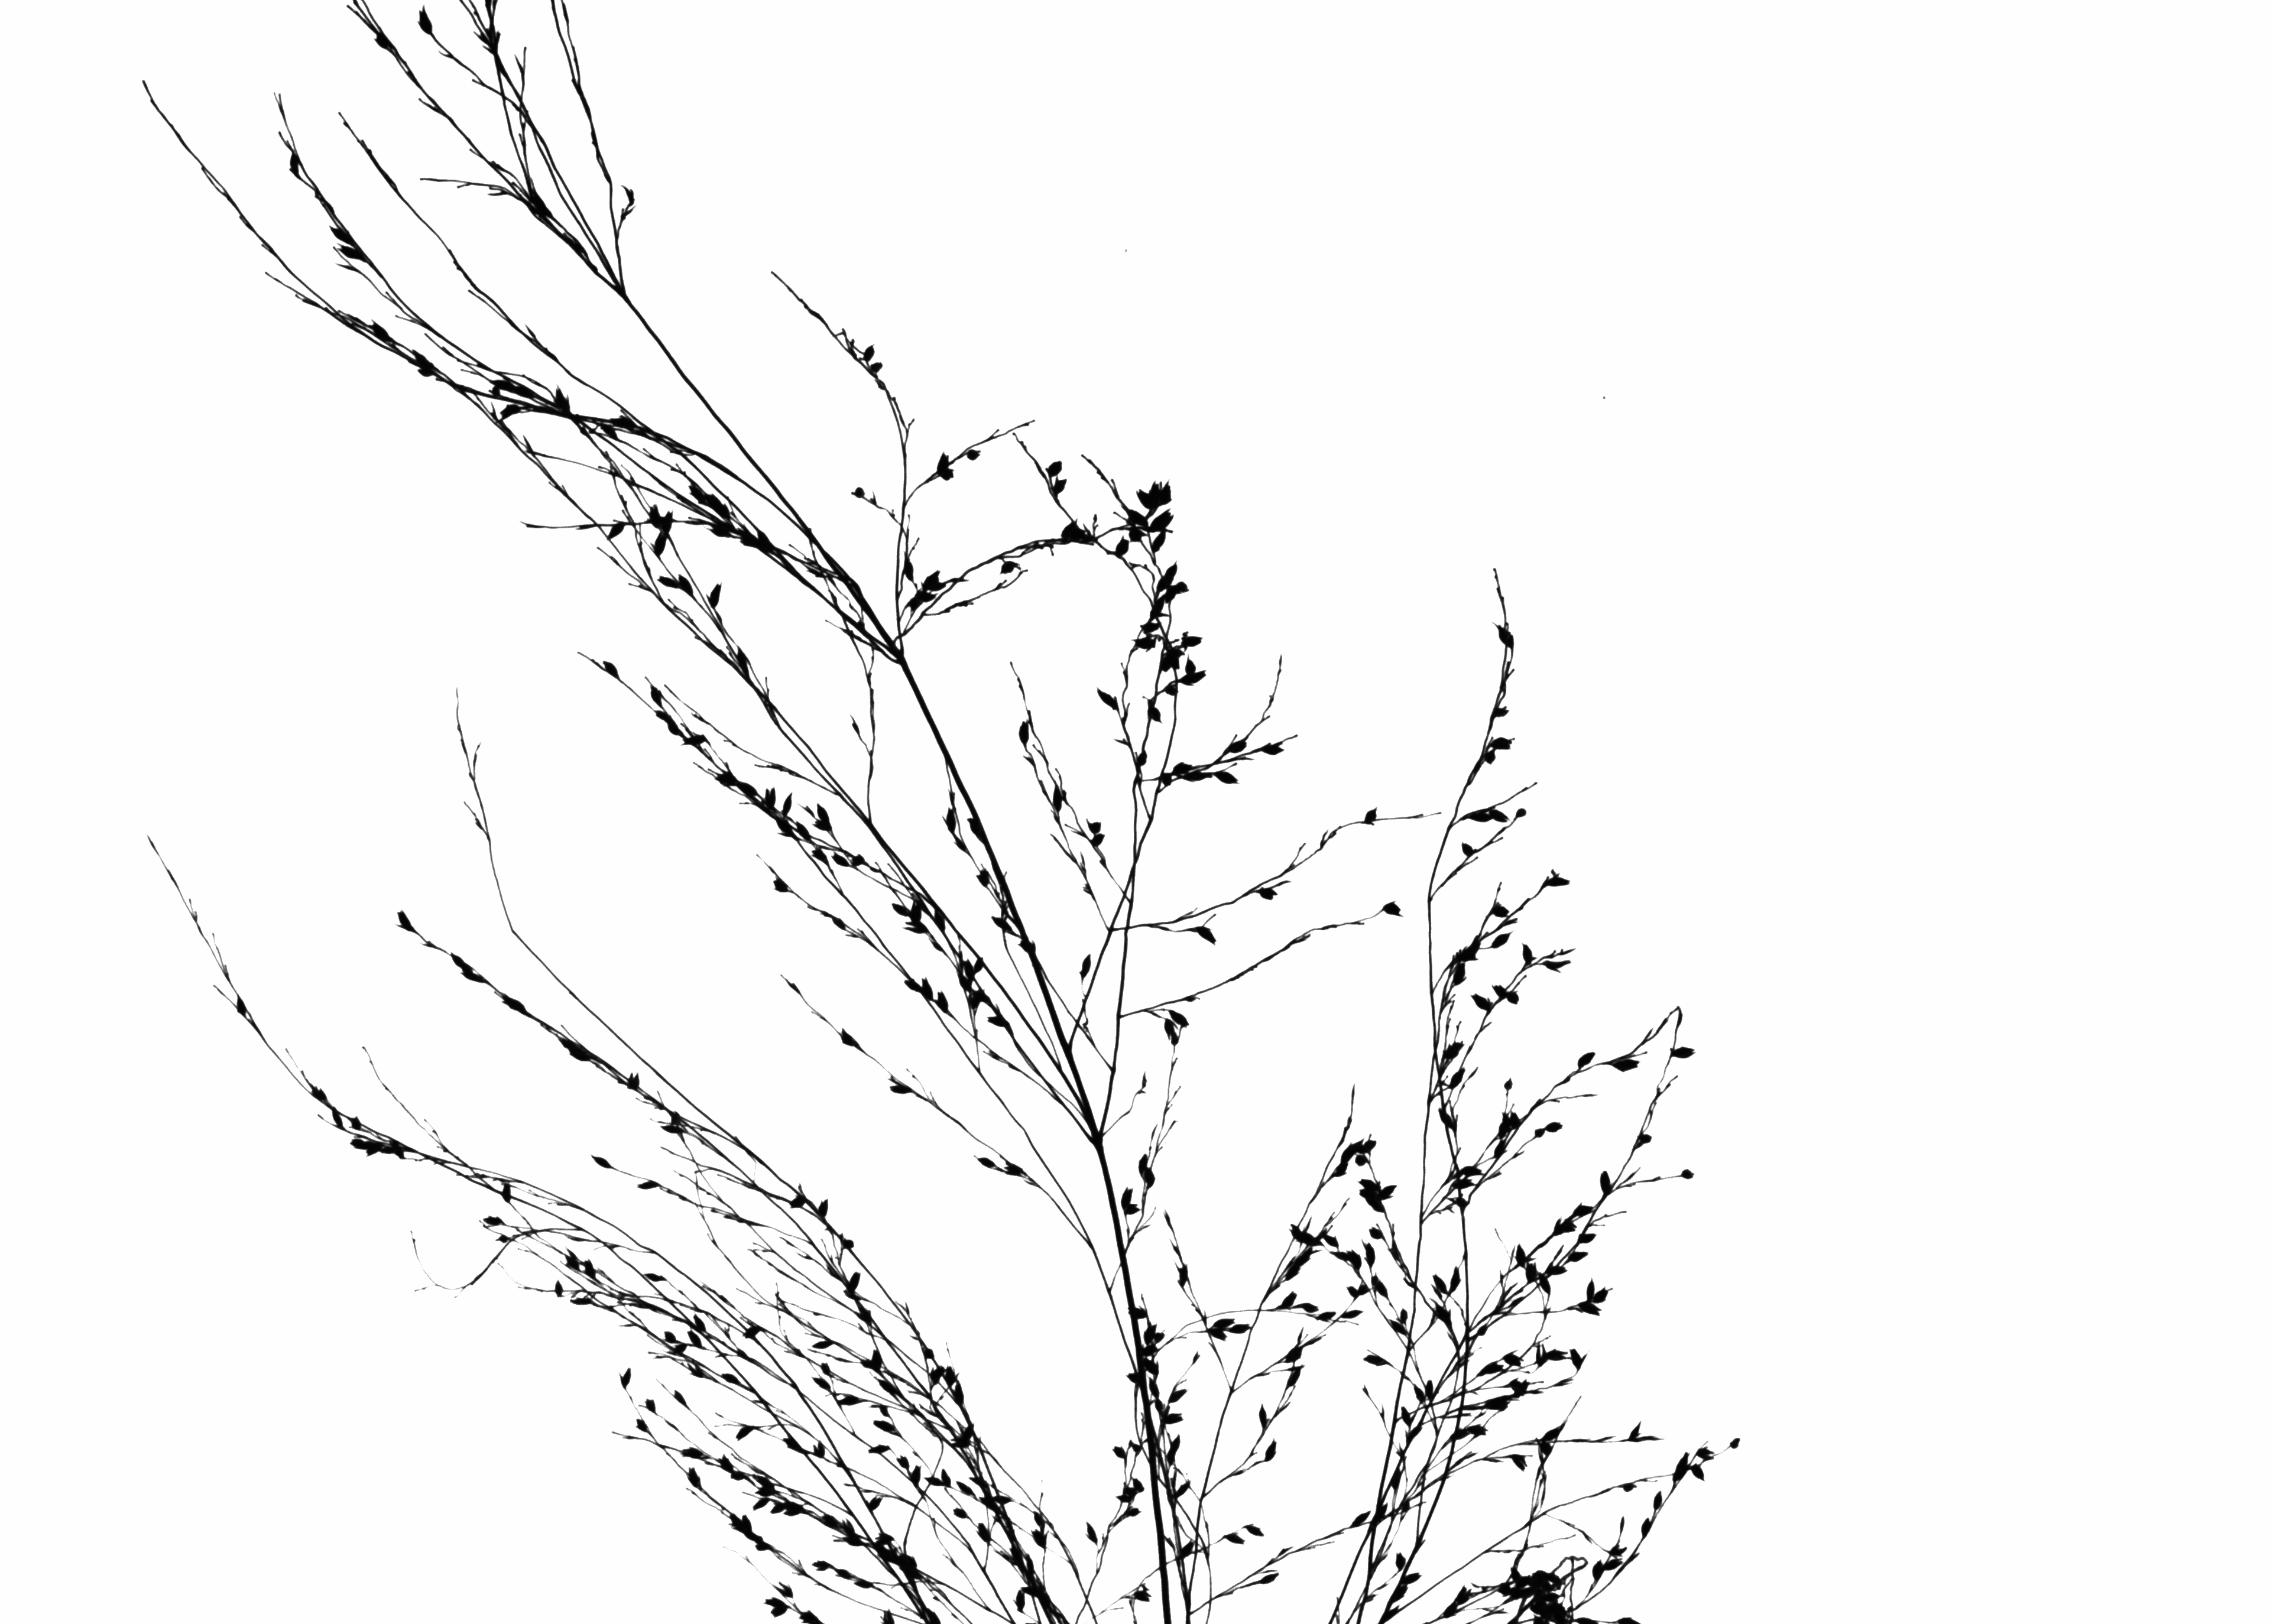seed: (325, 220, 364, 244), (334, 244, 369, 267), (596, 417, 624, 445), (1670, 1448, 1692, 1483), (411, 346, 438, 374), (367, 316, 394, 344), (501, 991, 529, 1016), (986, 912, 1015, 937), (1152, 504, 1175, 534), (1095, 684, 1118, 714), (1495, 622, 1519, 649), (1340, 1135, 1364, 1162), (735, 777, 761, 801), (369, 32, 396, 56), (413, 7, 436, 35), (709, 490, 730, 520), (1013, 715, 1032, 747), (707, 578, 726, 610), (550, 381, 570, 413), (1542, 1420, 1568, 1443), (705, 520, 731, 543), (1059, 517, 1080, 545), (1178, 627, 1206, 649), (1612, 1055, 1642, 1074), (1125, 506, 1150, 529), (1382, 896, 1405, 921), (1192, 924, 1217, 947), (965, 816, 988, 840), (795, 819, 818, 844), (710, 765, 733, 789), (1542, 956, 1574, 974), (1356, 1172, 1382, 1193), (1213, 766, 1240, 787), (1168, 1005, 1194, 1026), (1168, 1431, 1185, 1462), (876, 1376, 902, 1397), (394, 905, 415, 932), (918, 974, 935, 1005), (677, 733, 712, 749), (647, 680, 668, 707), (753, 524, 770, 555), (287, 148, 302, 183), (1626, 1418, 1646, 1446), (1433, 1301, 1452, 1329), (872, 1418, 902, 1436), (733, 640, 751, 670), (1257, 882, 1280, 905), (1444, 1037, 1465, 1062), (1470, 988, 1491, 1012), (1577, 1297, 1602, 1318), (774, 816, 795, 840), (1050, 475, 1071, 499), (1289, 1220, 1308, 1246), (1488, 930, 1514, 949), (1449, 1063, 1468, 1090), (1670, 1042, 1697, 1062), (962, 958, 981, 984), (651, 707, 677, 726), (644, 499, 663, 526), (1540, 874, 1572, 889), (1050, 782, 1066, 814), (1595, 1167, 1612, 1195), (1162, 1016, 1180, 1044), (921, 568, 944, 589), (1285, 1367, 1305, 1392), (1081, 1519, 1101, 1543), (814, 801, 833, 826), (865, 359, 884, 383), (944, 805, 960, 835), (1408, 1380, 1426, 1406), (1152, 527, 1169, 554), (1115, 534, 1132, 561), (1363, 1350, 1389, 1367), (680, 1445, 707, 1462), (608, 517, 626, 543), (1539, 1269, 1554, 1297), (900, 555, 916, 584), (1164, 555, 1180, 584), (1078, 951, 1094, 979), (1173, 1478, 1194, 1499), (1264, 1436, 1280, 1464), (865, 1441, 893, 1457), (923, 1603, 944, 1624), (591, 1151, 612, 1172), (659, 508, 675, 536), (656, 533, 672, 561), (1389, 1584, 1408, 1606), (1389, 1318, 1412, 1338), (1155, 573, 1175, 596), (686, 1327, 705, 1350), (839, 1026, 858, 1049), (858, 343, 877, 366), (1299, 1232, 1324, 1250), (1437, 1107, 1454, 1132), (1570, 1200, 1595, 1218), (1347, 1248, 1364, 1272), (995, 559, 1020, 576), (1157, 482, 1175, 506), (1183, 670, 1208, 687), (1245, 1520, 1270, 1538), (1030, 1527, 1048, 1552), (719, 1369, 744, 1387), (462, 970, 487, 988), (496, 401, 520, 418), (1482, 1397, 1512, 1411), (1257, 742, 1287, 756), (1136, 1067, 1152, 1093), (1468, 808, 1495, 824), (1451, 961, 1466, 988), (1456, 1162, 1482, 1178), (1521, 1260, 1537, 1287), (1540, 1346, 1567, 1362), (1326, 1246, 1352, 1262), (1129, 636, 1155, 652), (1146, 1374, 1162, 1401), (686, 1464, 702, 1490), (816, 1195, 832, 1222), (888, 1081, 914, 1097), (932, 903, 948, 930), (680, 573, 696, 599), (1491, 807, 1512, 826), (1491, 900, 1510, 921), (1577, 1048, 1597, 1069), (1503, 1350, 1524, 1369), (1352, 1508, 1371, 1529), (1282, 1343, 1303, 1362), (1136, 487, 1155, 508), (1146, 703, 1166, 724), (735, 1422, 756, 1441), (390, 1139, 410, 1160), (856, 1304, 876, 1325), (955, 972, 974, 993), (832, 851, 853, 870), (1363, 805, 1380, 828), (811, 1374, 833, 1392), (693, 1311, 710, 1334), (1046, 455, 1064, 478), (658, 575, 680, 592), (1602, 1555, 1626, 1571), (1692, 1462, 1707, 1487), (1489, 735, 1514, 750), (1373, 1274, 1389, 1299), (1340, 1308, 1364, 1323), (944, 1360, 957, 1392), (584, 1257, 600, 1281), (661, 1121, 686, 1137), (986, 1014, 1011, 1030), (935, 988, 951, 1012), (1546, 1118, 1565, 1137), (1227, 736, 1247, 756), (1131, 1475, 1150, 1494), (672, 1387, 691, 1406), (450, 951, 469, 970), (1651, 1485, 1665, 1512), (1495, 1114, 1512, 1135), (1451, 1265, 1465, 1292), (1363, 1241, 1377, 1267), (1222, 1533, 1248, 1547), (953, 1478, 974, 1496), (1030, 1508, 1048, 1529), (833, 1562, 855, 1580), (740, 1513, 754, 1540), (788, 1193, 809, 1211), (601, 657, 619, 678), (1612, 1612, 1642, 1624), (1567, 1248, 1590, 1264), (1468, 1422, 1491, 1438), (1398, 1404, 1414, 1427), (909, 589, 925, 612), (1118, 1186, 1134, 1209), (1143, 1322, 1159, 1345), (1213, 1315, 1236, 1330), (811, 1557, 833, 1573), (751, 1471, 774, 1487), (781, 1436, 804, 1452), (742, 1323, 765, 1339), (848, 1267, 863, 1290), (974, 1155, 997, 1171), (1451, 1176, 1475, 1190), (1313, 1309, 1338, 1323), (870, 1345, 884, 1369), (930, 1362, 944, 1387), (992, 1492, 1016, 1506), (978, 1519, 992, 1543), (842, 1536, 867, 1550), (765, 1594, 789, 1608), (784, 1504, 809, 1519), (331, 1106, 345, 1130), (1444, 1599, 1461, 1619), (1593, 1287, 1612, 1304), (1169, 1385, 1189, 1403), (772, 875, 789, 895), (811, 847, 828, 866), (1637, 1517, 1653, 1538), (1537, 1439, 1553, 1461), (1447, 1424, 1468, 1439), (1433, 1272, 1449, 1294), (1379, 1183, 1400, 1199), (1287, 1262, 1303, 1283), (1282, 1288, 1298, 1309), (1152, 1397, 1168, 1418), (1178, 1540, 1194, 1561), (860, 1355, 881, 1371), (833, 1396, 865, 1406), (672, 1107, 688, 1128), (937, 445, 948, 476), (1521, 940, 1533, 967), (1514, 1241, 1526, 1267), (809, 1338, 835, 1350), (953, 1380, 965, 1406), (1015, 1585, 1027, 1612), (637, 1179, 663, 1192), (809, 821, 835, 833), (1568, 1346, 1582, 1369), (1479, 1362, 1502, 1376), (1401, 1570, 1424, 1584), (1136, 747, 1150, 770), (1127, 1304, 1150, 1318), (1164, 1411, 1187, 1425), (855, 1577, 877, 1591), (234, 993, 248, 1016), (1138, 1151, 1148, 1181), (1510, 1454, 1528, 1471), (1359, 1137, 1377, 1155), (1333, 1160, 1350, 1178), (1368, 1197, 1386, 1214), (1085, 816, 1102, 833), (672, 1339, 689, 1357), (902, 975, 920, 993), (1509, 1566, 1524, 1585), (1493, 1139, 1509, 1158), (1500, 1074, 1516, 1093), (1368, 1225, 1387, 1241), (1164, 678, 1180, 698), (1092, 830, 1108, 849), (1143, 1357, 1159, 1376), (1132, 1589, 1152, 1605), (719, 1452, 735, 1471), (635, 1415, 651, 1434), (350, 1113, 366, 1132), (891, 902, 911, 917), (830, 910, 846, 930), (964, 443, 979, 462), (1551, 1214, 1563, 1239), (1544, 1265, 1568, 1278), (1183, 654, 1196, 678), (1169, 759, 1194, 772), (909, 898, 921, 923), (782, 791, 795, 816), (1456, 1582, 1470, 1603), (1259, 1571, 1280, 1585), (1208, 1329, 1229, 1343), (1231, 1322, 1252, 1336), (768, 1501, 789, 1515), (484, 1213, 505, 1227), (375, 1142, 396, 1156), (350, 1137, 371, 1151), (1004, 1160, 1025, 1174), (1618, 1515, 1630, 1538), (1394, 1548, 1407, 1571), (1145, 1167, 1157, 1190), (1115, 1492, 1138, 1504), (621, 1366, 633, 1388), (644, 1271, 666, 1283), (570, 1295, 593, 1308), (972, 988, 985, 1011), (1547, 1570, 1565, 1585), (1635, 1130, 1653, 1146), (1173, 580, 1190, 596), (1150, 1329, 1168, 1345), (1178, 1262, 1189, 1288), (1259, 1403, 1270, 1429), (819, 1359, 835, 1376), (911, 1462, 921, 1489), (951, 1504, 969, 1520), (777, 1578, 793, 1596), (851, 485, 867, 503), (1493, 707, 1512, 721), (1398, 1499, 1412, 1519), (1139, 1343, 1159, 1357), (962, 1422, 976, 1441), (753, 1496, 772, 1510), (1572, 1613, 1597, 1624), (1605, 1543, 1626, 1555), (1591, 1557, 1602, 1582), (1495, 981, 1507, 1002), (1577, 1230, 1598, 1243), (1426, 1376, 1437, 1401), (1139, 622, 1164, 633), (923, 1473, 944, 1485), (877, 1529, 899, 1541), (840, 1237, 856, 1253), (1516, 807, 1530, 824), (1505, 988, 1519, 1005), (1324, 1234, 1342, 1248), (1111, 1443, 1125, 1461), (877, 1403, 891, 1420), (770, 1605, 788, 1619), (823, 1512, 840, 1526), (564, 1253, 578, 1271), (974, 954, 988, 972), (1510, 1109, 1521, 1132), (1391, 1468, 1401, 1490), (918, 592, 941, 603), (503, 1181, 513, 1204), (1124, 1506, 1143, 1519), (941, 1468, 953, 1487), (844, 1515, 856, 1534), (900, 926, 927, 935), (1681, 1165, 1695, 1181), (1159, 772, 1173, 787), (1125, 1204, 1141, 1218), (1125, 1371, 1141, 1385), (951, 1439, 972, 1450), (897, 1454, 911, 1469), (816, 1436, 826, 1457), (663, 1327, 679, 1341), (974, 874, 988, 889), (853, 852, 867, 868), (883, 1606, 895, 1624), (645, 1396, 658, 1413), (318, 1086, 331, 1104), (1400, 1304, 1410, 1323), (1301, 1301, 1321, 1311), (731, 1469, 751, 1480), (554, 1278, 564, 1297), (626, 1070, 637, 1090), (768, 786, 777, 808), (1728, 1436, 1743, 1450), (1345, 1285, 1359, 1299), (1461, 840, 1473, 856), (1532, 1125, 1544, 1141), (870, 1494, 883, 1510), (1695, 1445, 1716, 1454), (1486, 749, 1496, 766), (1586, 1274, 1593, 1301), (1454, 1197, 1468, 1209), (754, 1543, 774, 1552), (811, 1443, 821, 1459), (1356, 1153, 1366, 1167), (635, 1070, 642, 1090), (763, 787, 770, 807), (496, 1234, 510, 1243)
